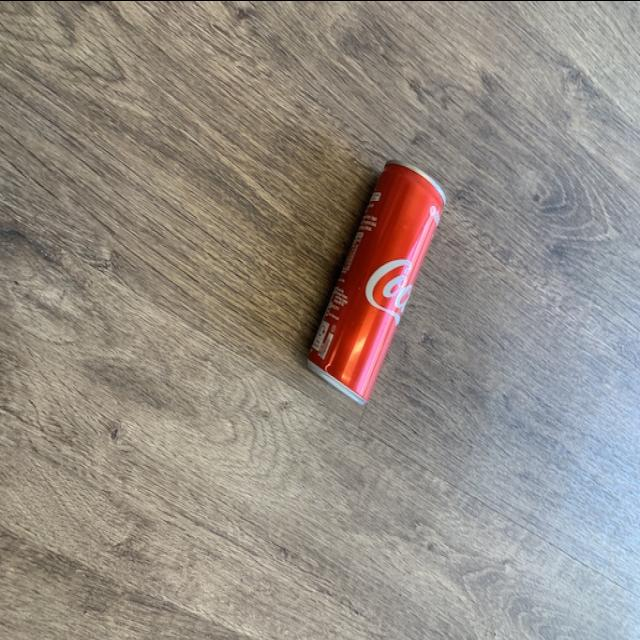Aluminum Can: (304, 155, 450, 411)
